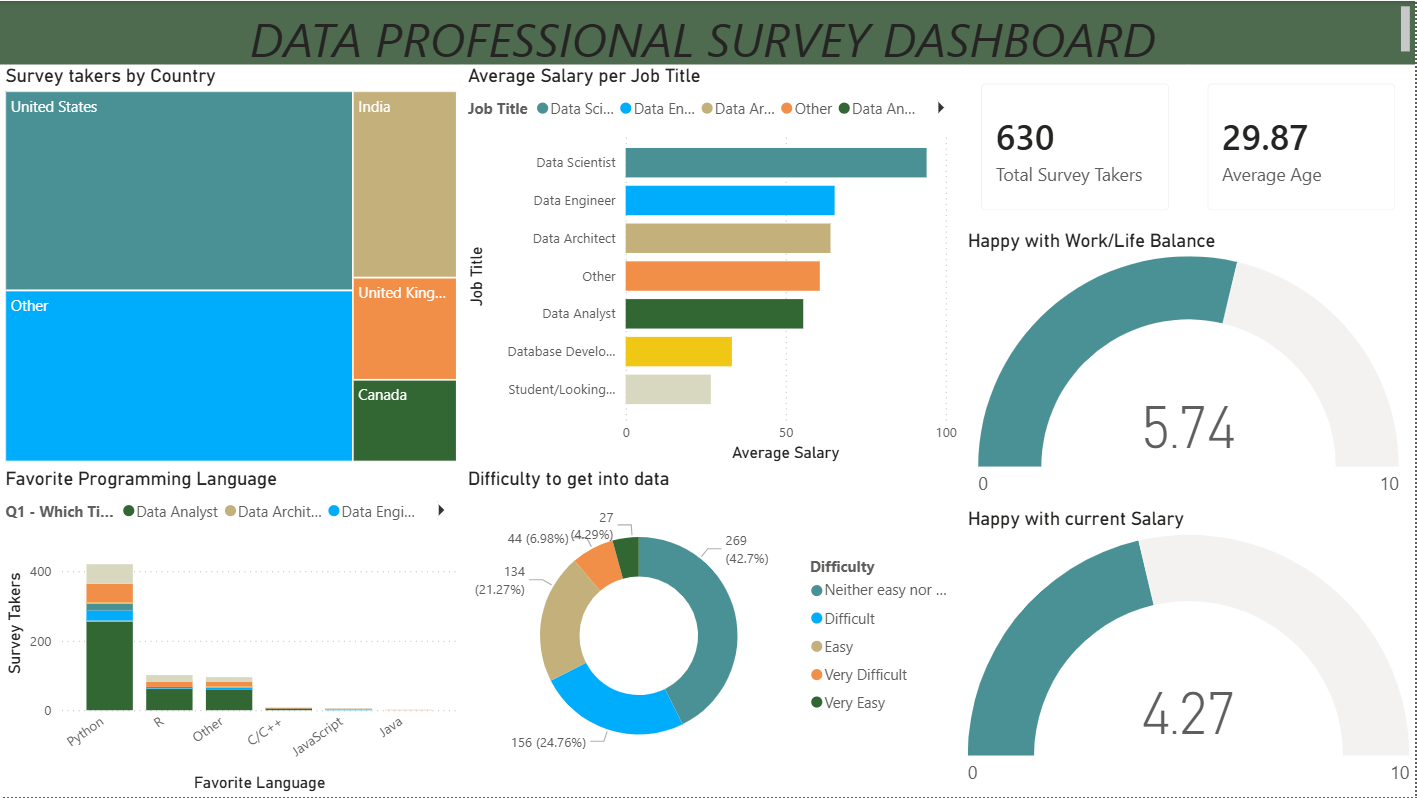

The page's visual inventory and layout, read from the dashboard file:
{"tool":"powerbi","page":{"name":"Page 1","canvas":[1280,720],"ordinal":0},"visuals":[{"type":"textbox","box":[0,0,1280.3,57.6],"z":0},{"type":"cardVisual","fields":{"Data":["Count(Data Professional Survey.Unique ID)"]},"box":[870.6,57.7,204.6,149.2],"z":1000},{"type":"cardVisual","fields":{"Data":["Avg(Data Professional Survey.Q10 - Current Age)"]},"box":[1075.3,57.7,204.6,149.2],"z":2000},{"type":"barChart","title":"Average Salary per Job Title","fields":{"Category":["Data Professional Survey.Q1 - Which Title Best Fits your Current Role?.1"],"Y":["Avg(Data Professional Survey.Average Salary)"],"Series":["Data Professional Survey.Q1 - Which Title Best Fits your Current Role?.1"]},"box":[418.3,57.7,452.3,364.1],"z":3000},{"type":"treemap","title":"Survey takers by Country","fields":{"Group":["Data Professional Survey.Q11 - Which Country do you live in?.1"],"Values":["CountNonNull(Data Professional Survey.Q11 - Which Country do you live in?.1)"]},"box":[0,57.7,418.3,364.1],"z":3001},{"type":"gauge","title":"Happy with Work/Life Balance","fields":{"Y":["Avg(Data Professional Survey.Q6 - How Happy are you in your Current Position with the following? (Work/Life Balance))"],"MinValue":["Min(Data Professional Survey.Q6 - How Happy are you in your Current Position with the following? (Work/Life Balance))"],"MaxValue":["Max(Data Professional Survey.Q6 - How Happy are you in your Current Position with the following? (Work/Life Balance))"]},"box":[870.6,206.9,409.3,251],"z":3002},{"type":"gauge","title":"Happy with current Salary","fields":{"Y":["Avg(Data Professional Survey.Q6 - How Happy are you in your Current Position with the following? (Salary))"],"MinValue":["Min(Data Professional Survey.Q6 - How Happy are you in your Current Position with the following? (Salary))"],"MaxValue":["Max(Data Professional Survey.Q6 - How Happy are you in your Current Position with the following? (Salary))"]},"box":[870.6,457.9,409.3,262.3],"z":3003},{"type":"donutChart","title":"Difficulty to get into data","fields":{"Category":["Data Professional Survey.Q7 - How difficult was it for you to break into Data?"],"Y":["CountNonNull(Data Professional Survey.Q7 - How difficult was it for you to break into Data?)"]},"box":[418.3,421.7,452.3,286.1],"z":3004},{"type":"columnChart","title":"Favorite Programming Language ","fields":{"Category":["Data Professional Survey.Q5 - Favorite Programming Language.1"],"Y":["CountNonNull(Data Professional Survey.Unique ID)"],"Series":["Data Professional Survey.Q1 - Which Title Best Fits your Current Role?.1"]},"box":[0,421.7,418.3,298.5],"z":3005}]}

Visuals, with their boxes in screenshot pixels (x1, y1, x2, y2), scaled from the page's 1280x720 canvas onto the 1417x798 screenshot:
textbox: [x1=0, y1=0, x2=1416, y2=64]
cardVisual - Count(Data Professional Survey.Unique ID): [x1=964, y1=64, x2=1190, y2=229]
cardVisual - Avg(Data Professional Survey.Q10 - Current Age): [x1=1190, y1=64, x2=1416, y2=229]
"Average Salary per Job Title" barChart: [x1=463, y1=64, x2=964, y2=467]
"Survey takers by Country" treemap: [x1=0, y1=64, x2=463, y2=467]
"Happy with Work/Life Balance" gauge: [x1=964, y1=229, x2=1416, y2=508]
"Happy with current Salary" gauge: [x1=964, y1=508, x2=1416, y2=797]
"Difficulty to get into data" donutChart: [x1=463, y1=467, x2=964, y2=784]
"Favorite Programming Language " columnChart: [x1=0, y1=467, x2=463, y2=797]
